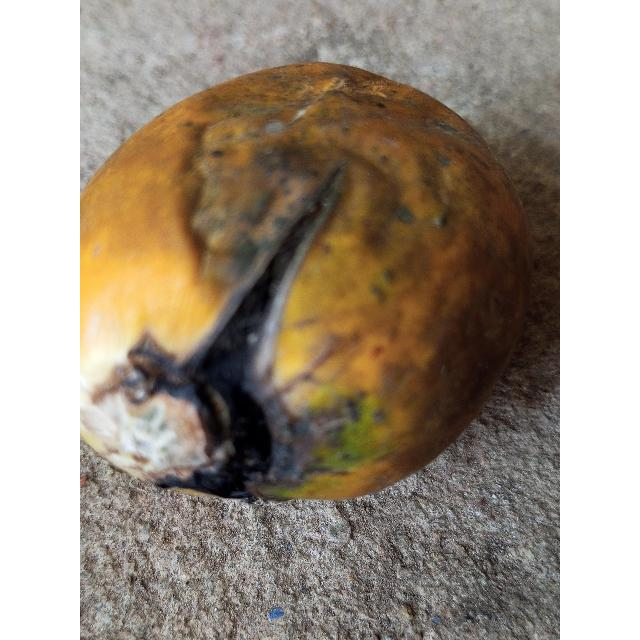damaged: (80, 63, 530, 500)
